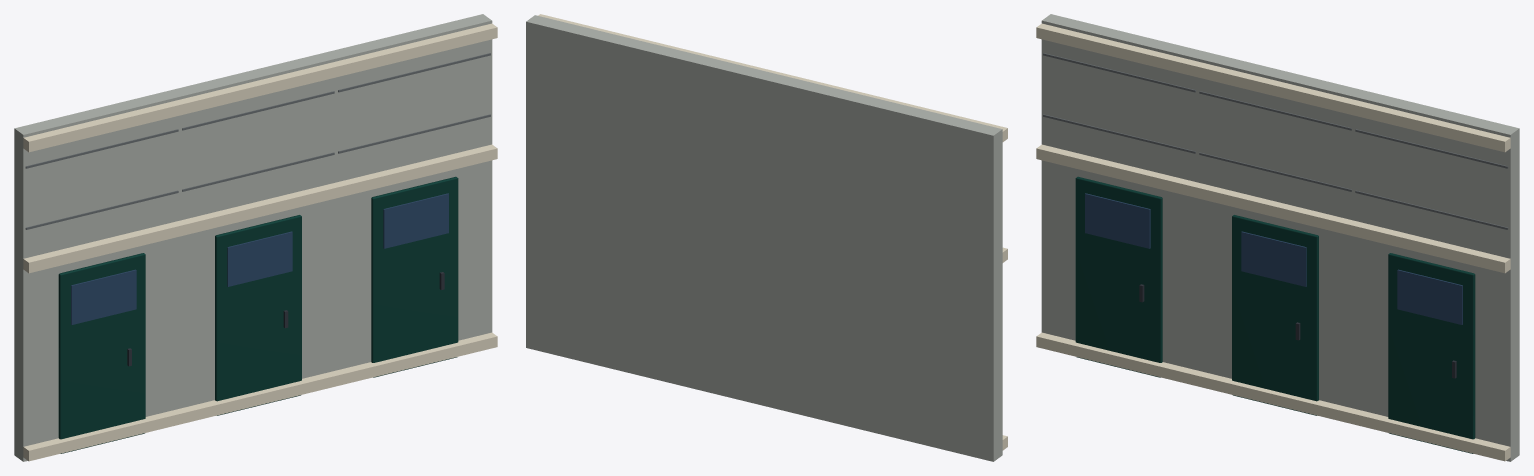
File: side-alley-backdrop.glb
The picture shows the model from 3 angles, left to right: view 1: azimuth 30°, elevation 25°; view 2: azimuth 150°, elevation 25°; view 3: azimuth 330°, elevation 25°; orthographic projection.
Visible parts, largest first — view 1: side-alley-backdrop; view 2: side-alley-backdrop; view 3: side-alley-backdrop.
Part boxes in pixels (<box>): side-alley-backdrop: <box>14,14,497,461</box>; side-alley-backdrop: <box>526,14,1007,461</box>; side-alley-backdrop: <box>1036,14,1519,461</box>.
Size of the model in its own units: 6 by 4 by 0.32.
Materials: 1 (1 with a texture image).
